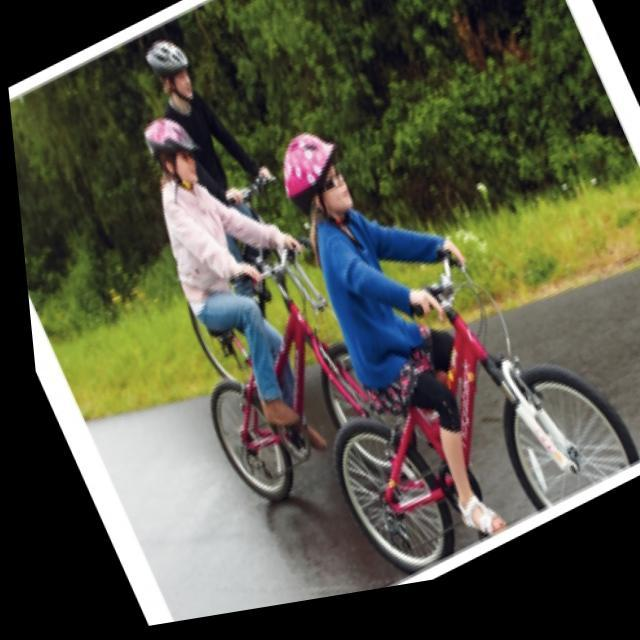Helmet: (270, 117, 361, 235), (137, 116, 207, 196), (140, 33, 198, 103)
